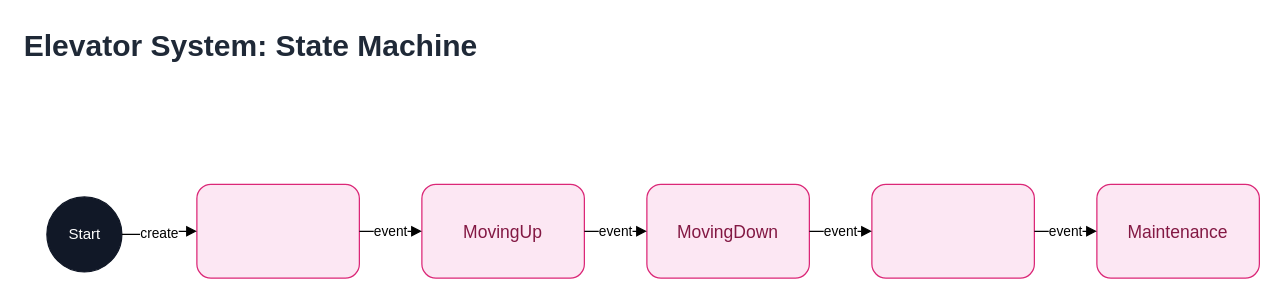
Image size: 1281x300. Some labels were removed from this diagram. Each missing label, with the centre of its shape:
DoorOpen: pixel 952 230
Idle: pixel 277 230
